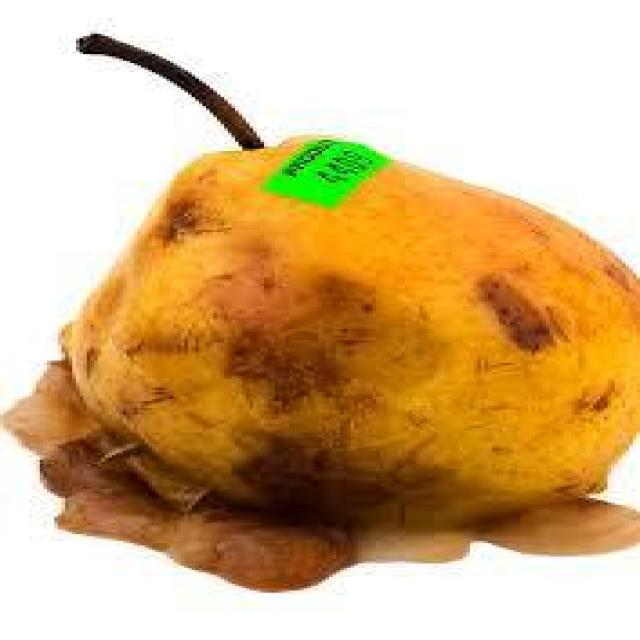organic: (0, 135, 640, 595)
